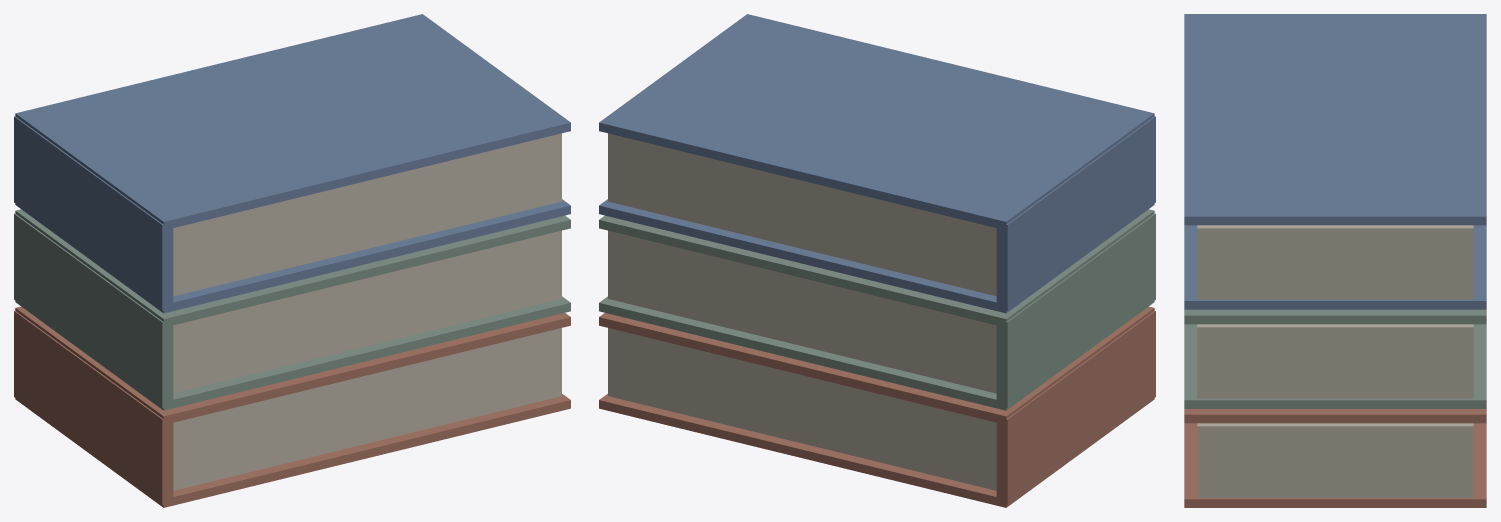
File: room-books.glb
The picture shows the model from 3 angles, left to right: view 1: azimuth 30°, elevation 25°; view 2: azimuth 150°, elevation 25°; view 3: azimuth 270°, elevation 25°; orthographic projection.
Visible parts, largest first — view 1: fabric, linen, sage, clay; view 2: fabric, linen, sage, clay; view 3: fabric, linen, sage, clay.
Part boxes in pixels (x1,y1,x2,y2): fabric: (14,14,570,313); linen: (173,133,561,490); sage: (14,209,570,410); clay: (14,306,570,507); fabric: (599,14,1155,313); linen: (608,133,996,490); sage: (599,209,1155,410); clay: (599,306,1155,507); fabric: (1184,14,1486,309); linen: (1197,225,1473,497); sage: (1184,309,1486,408); clay: (1184,409,1486,507).
Size of the model in its own units: 0.1495 by 0.1 by 0.094.
